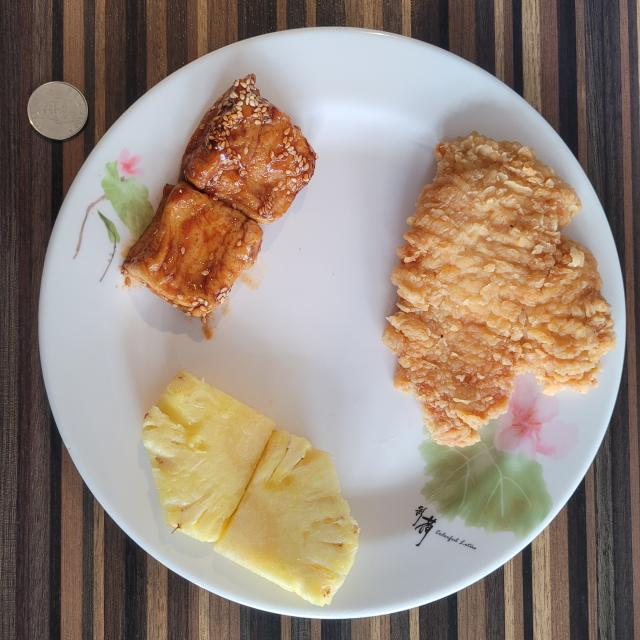coin: (28, 81, 88, 140)
creamy tofu: (122, 74, 318, 318)
fried chicken cutlet: (382, 132, 615, 446)
pineapple: (142, 370, 359, 606)
